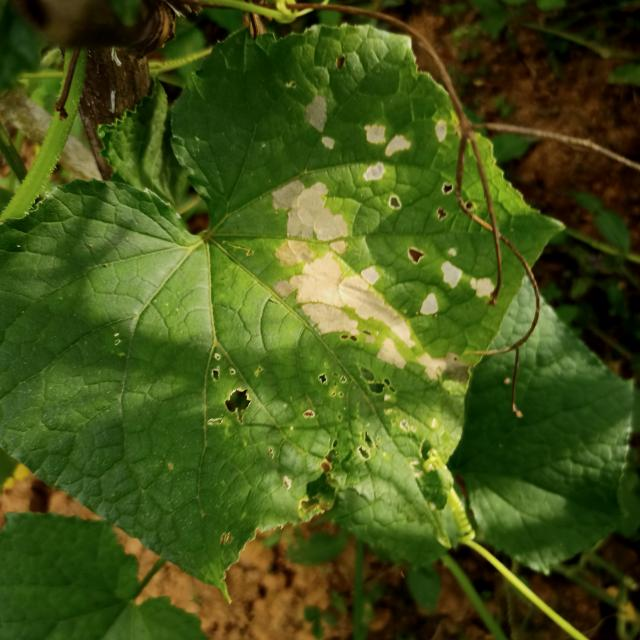disease_cucumber: (268, 94, 496, 387)
